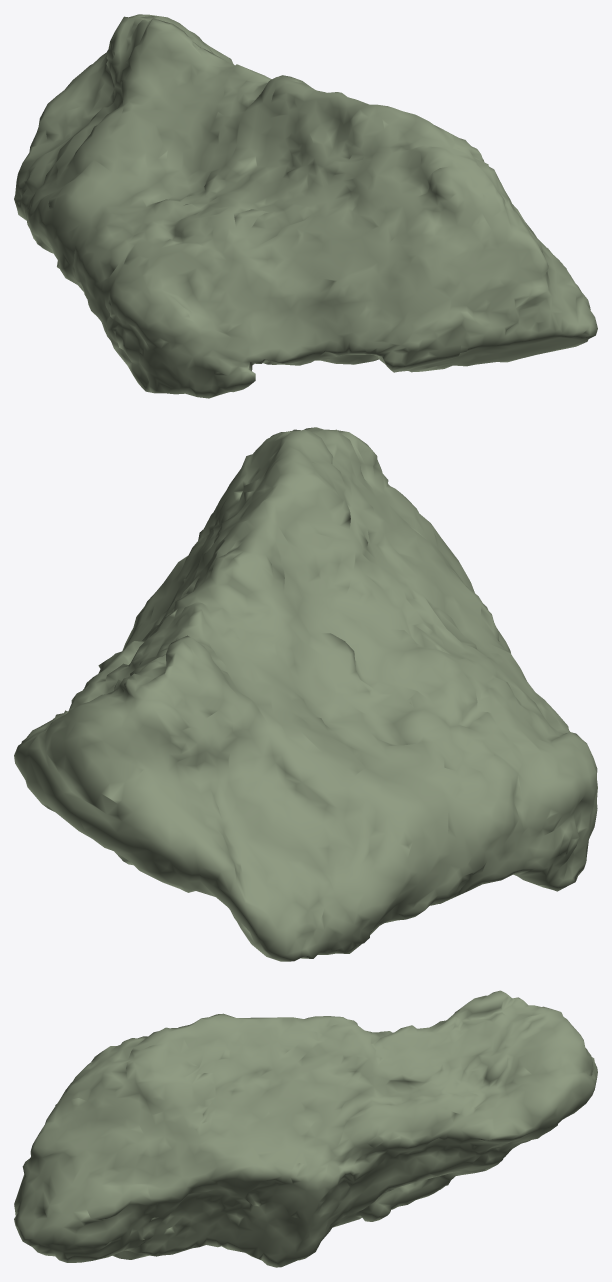
The model's file is rock_moss_set_01_0.glb.
3 renders of one model, top to bottom at view 1: azimuth 30°, elevation 25°; view 2: azimuth 150°, elevation 25°; view 3: azimuth 270°, elevation 25°, orthographic. The views are drawn at different scales.
Visible parts, largest first — view 1: rock_moss_set_01_0; view 2: rock_moss_set_01_0; view 3: rock_moss_set_01_0.
Boxes of the visible parts, x1,y1,x2,y2 form: rock_moss_set_01_0: (14, 14, 597, 398); rock_moss_set_01_0: (14, 427, 597, 961); rock_moss_set_01_0: (14, 990, 597, 1267).
Bounding box in the file's own units: 2.24 × 1.47 × 3.37.
